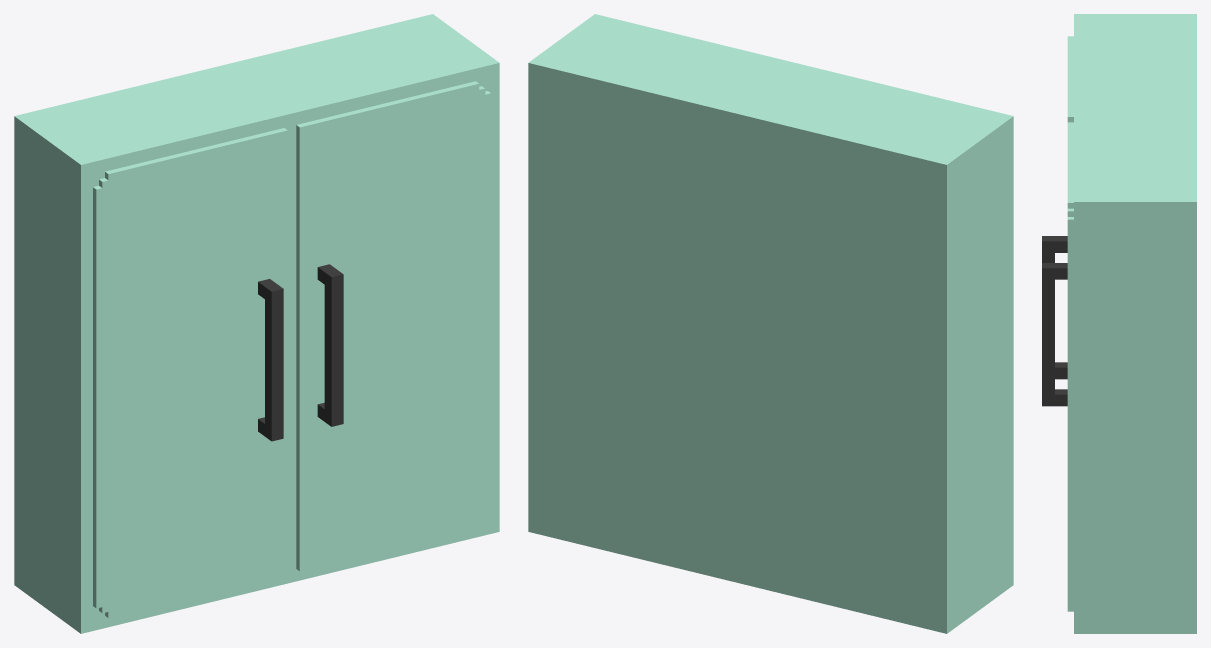
The model's file is Shoe cabinet.fbx.
3 renders of one model, left to right at view 1: azimuth 30°, elevation 25°; view 2: azimuth 150°, elevation 25°; view 3: azimuth 270°, elevation 25°, orthographic. The views are drawn at different scales.
Parts seen in each view (by area): view 1: Shoe cabinet; view 2: Shoe cabinet; view 3: Shoe cabinet.
Boxes of the visible parts, left/top/right/bottom form: Shoe cabinet: left=14, top=14, right=499, bottom=633; Shoe cabinet: left=528, top=14, right=1013, bottom=633; Shoe cabinet: left=1042, top=14, right=1196, bottom=633.
Bounding box in the file's own units: 0.7368 × 0.7887 × 0.2561.
